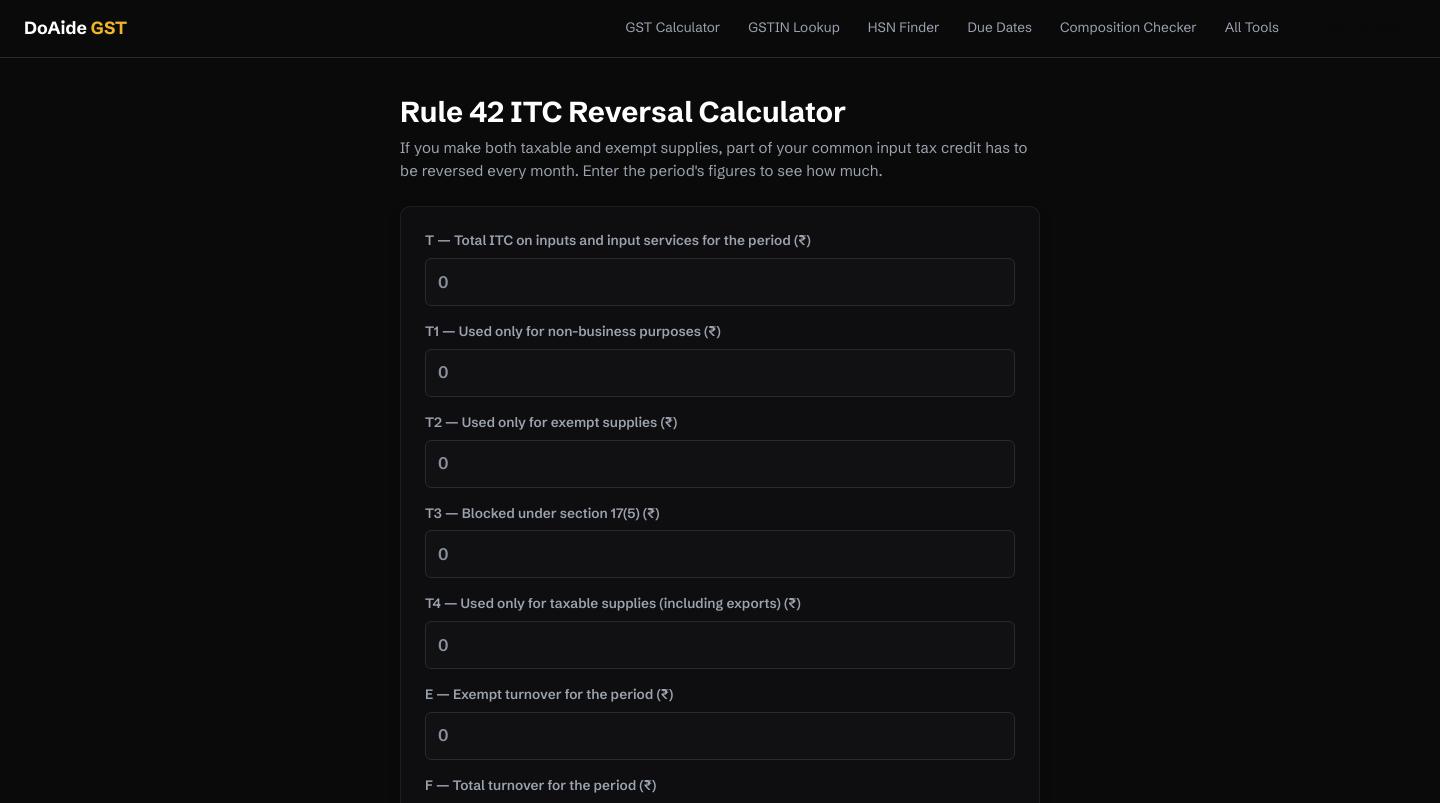
Test: Rule42ReversalPage › asks for turnover rather than dividing by nothing
In the number field labelled "T — Total ITC": (720, 282) [425, 258, 1015, 306], type "1000"
(page scrolled)
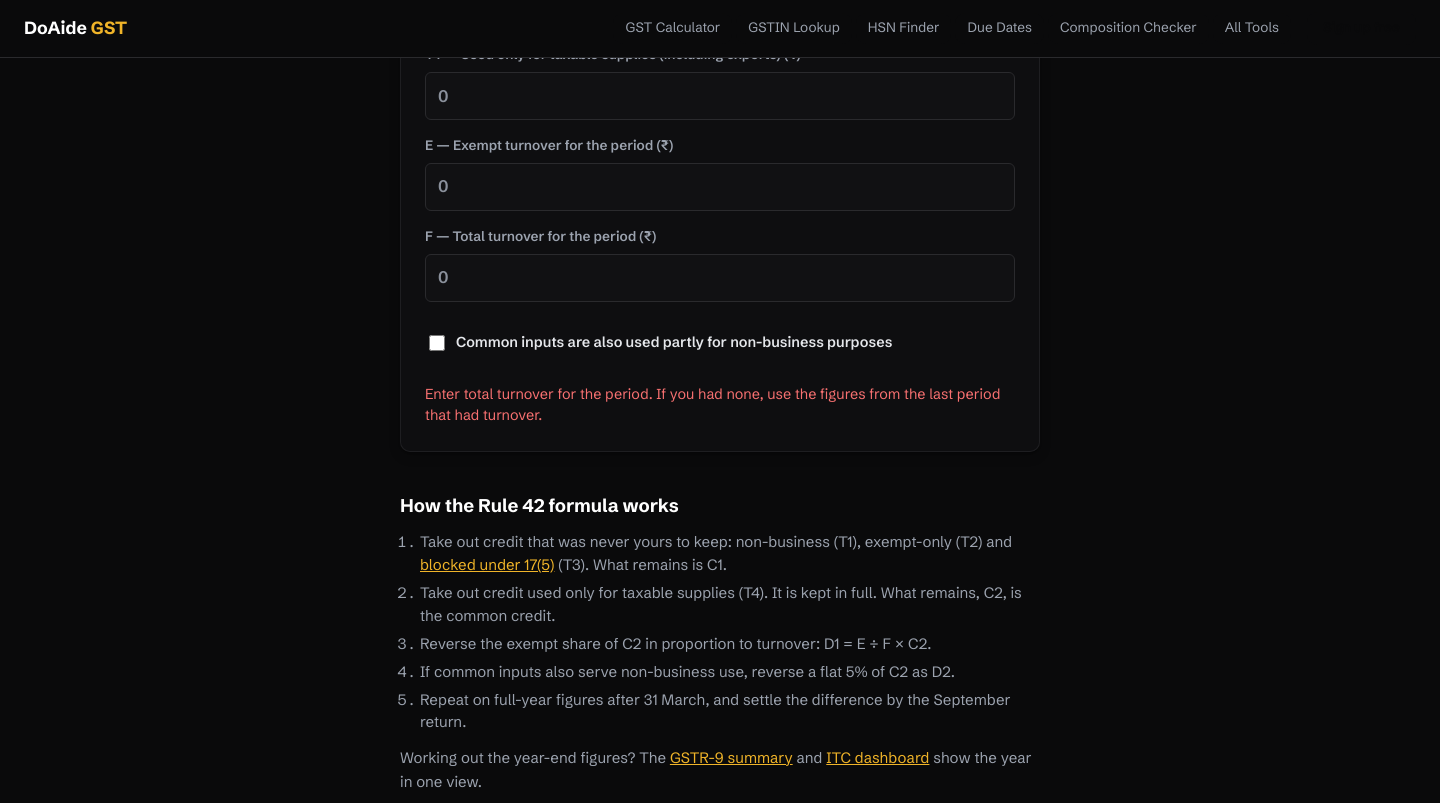
Check: the message shows "Enter total turnover", box [425, 385, 1000, 424]
